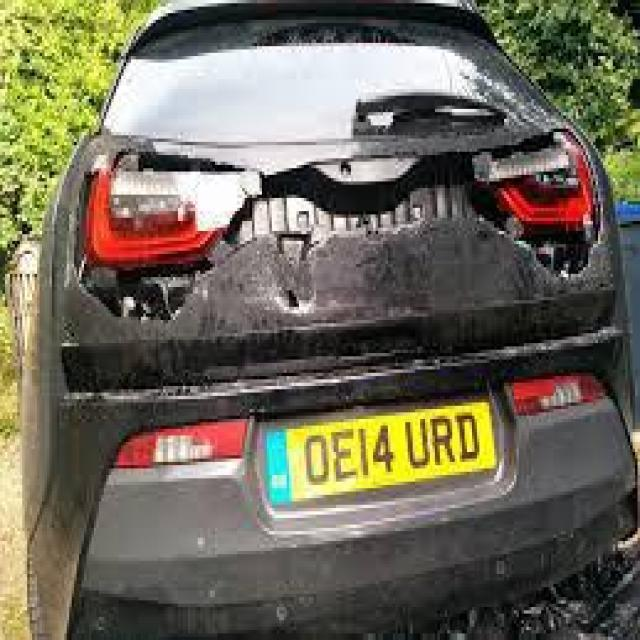damaged: (74, 126, 606, 327)
